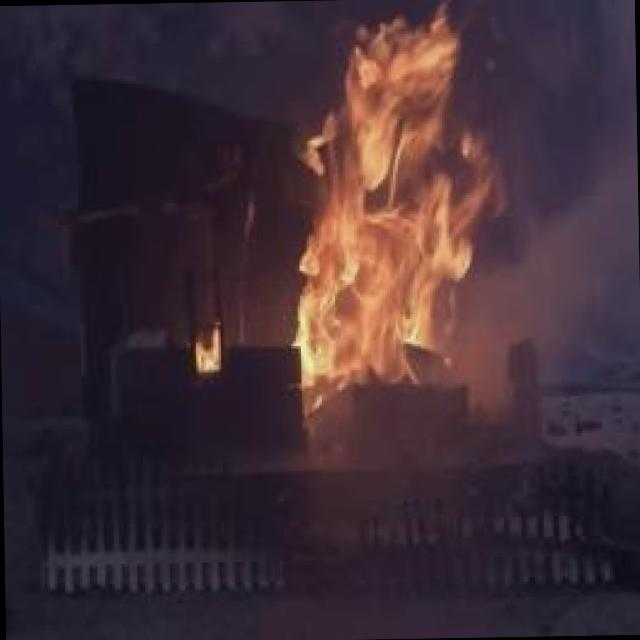fire: (253, 7, 502, 411)
